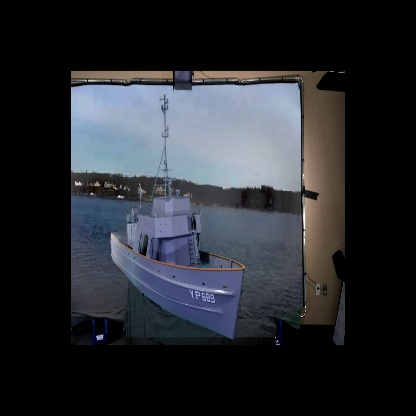YP689: (111, 94, 245, 337)
